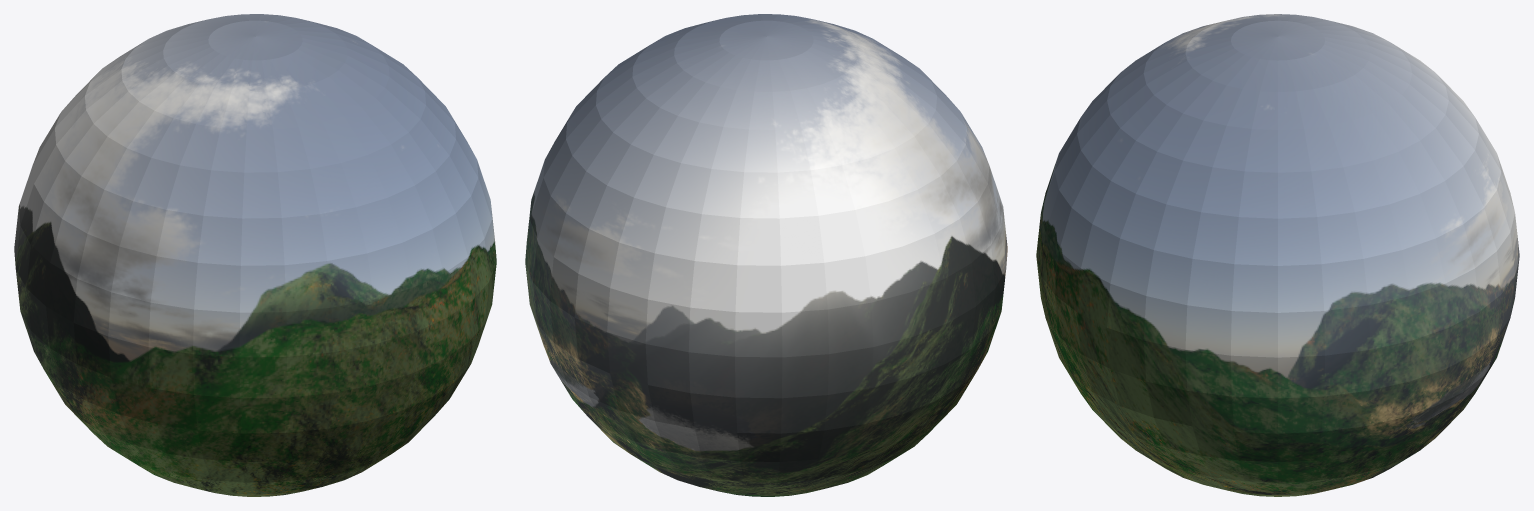
Rendered from stage13.glb.
3 renders of one model, left to right at view 1: azimuth 30°, elevation 25°; view 2: azimuth 150°, elevation 25°; view 3: azimuth 270°, elevation 25°, orthographic.
Parts seen in each view (by area): view 1: Sphere; view 2: Sphere; view 3: Sphere.
Part boxes in pixels (x1,y1,x2,y2): Sphere: [14, 14, 496, 496]; Sphere: [525, 14, 1007, 496]; Sphere: [1036, 14, 1519, 496].
Size of the model in its own units: 50 by 50 by 50.
3 materials, 1 textured.
